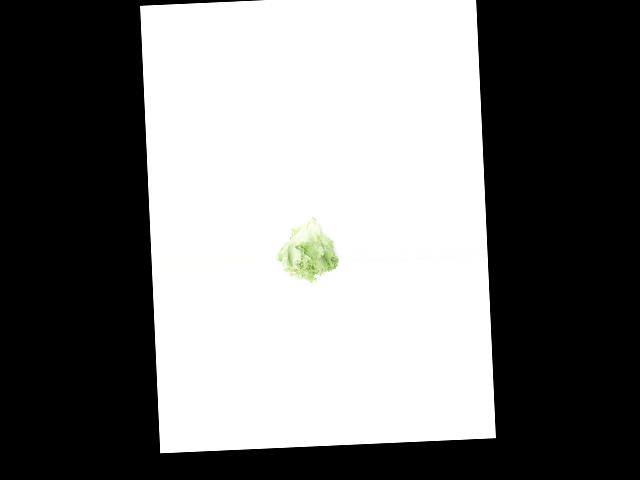lettuce: (273, 215, 340, 282)
